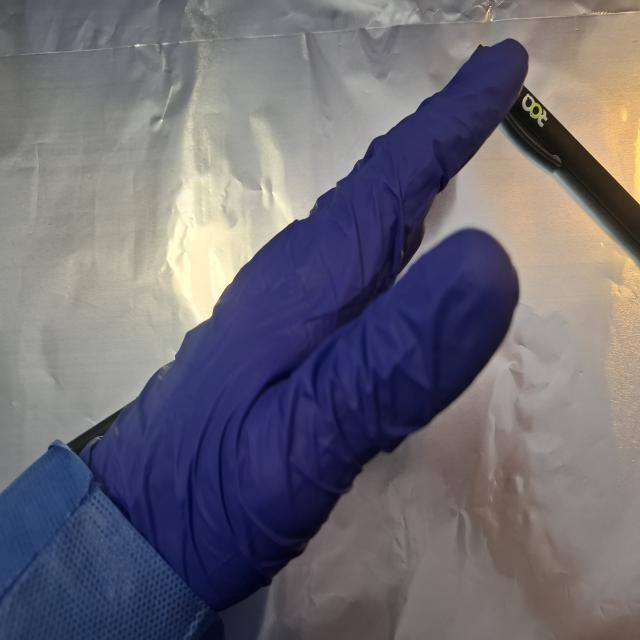glove_on: (66, 34, 534, 615)
